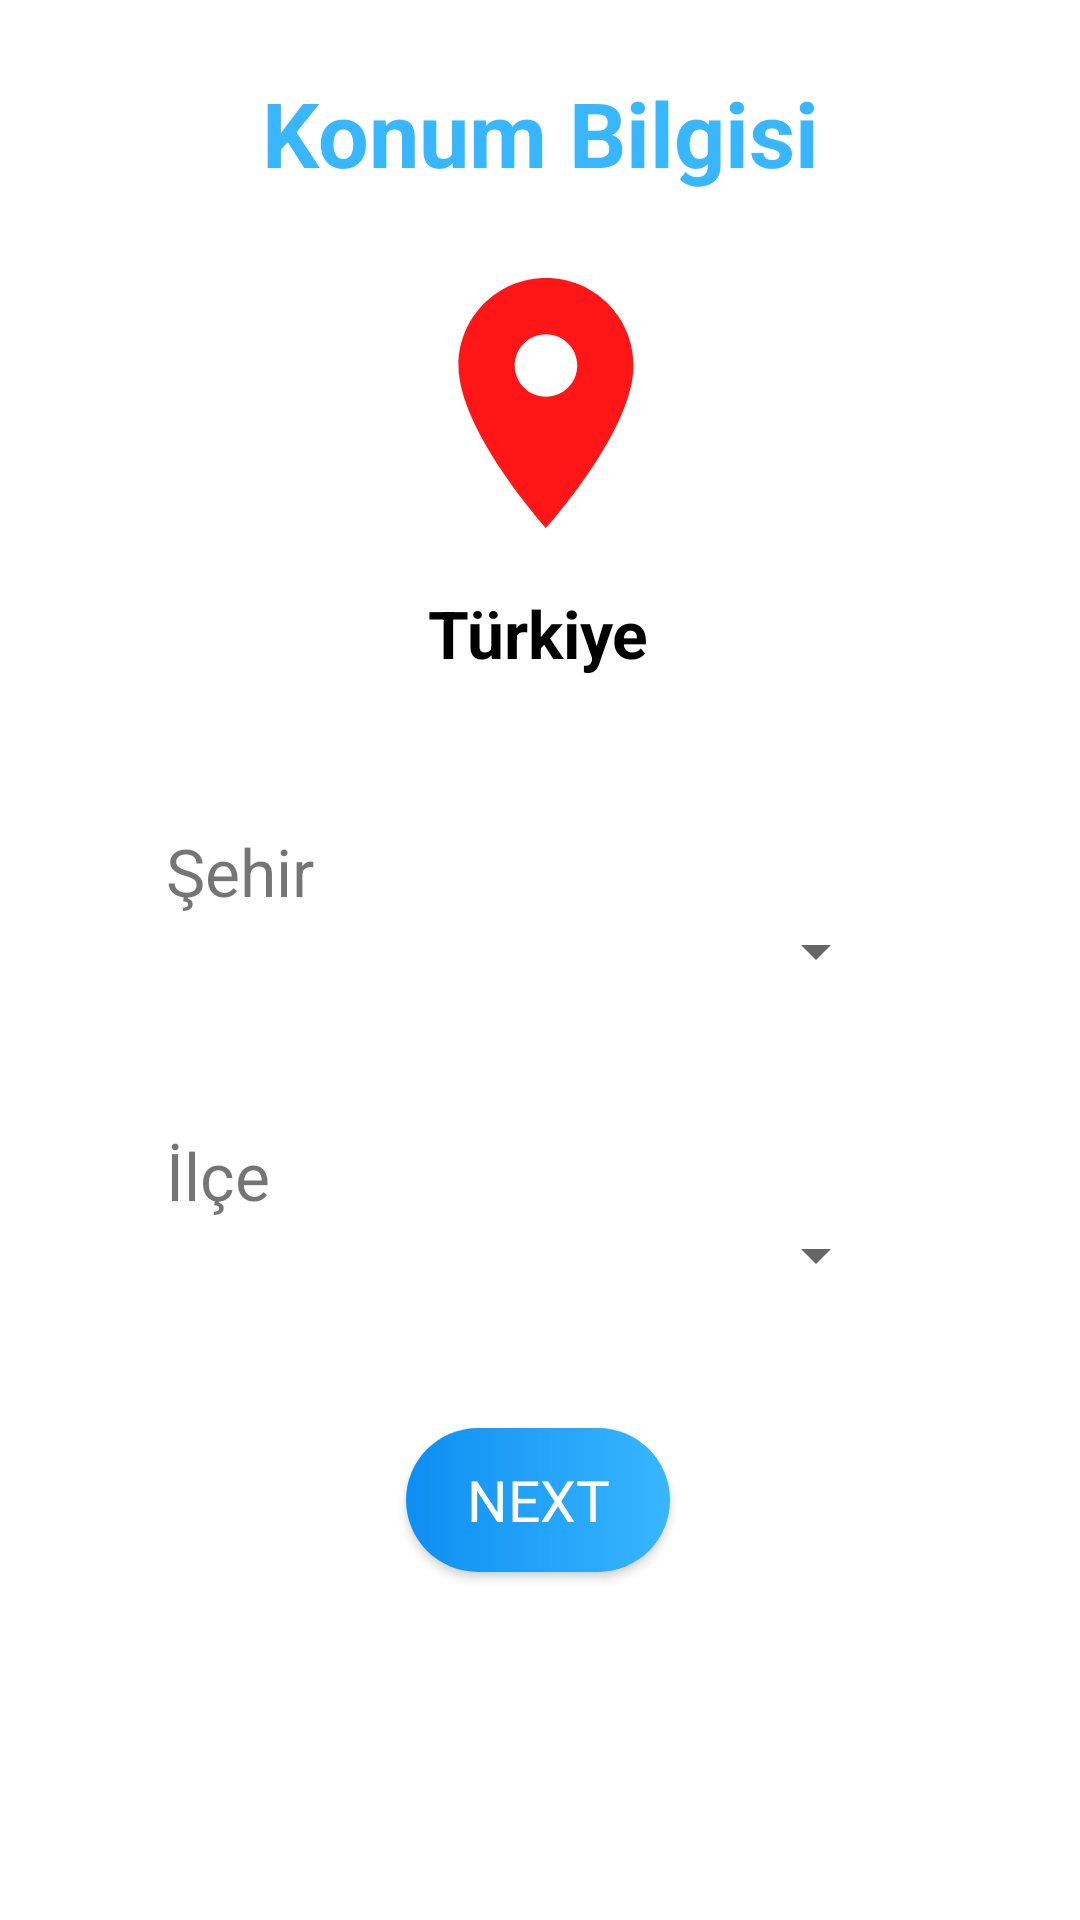

Icon bounding boxes for this 1080×1920 phone screenshot, format (x1, y1, x2, y2):
location on: (458, 278, 634, 528)
